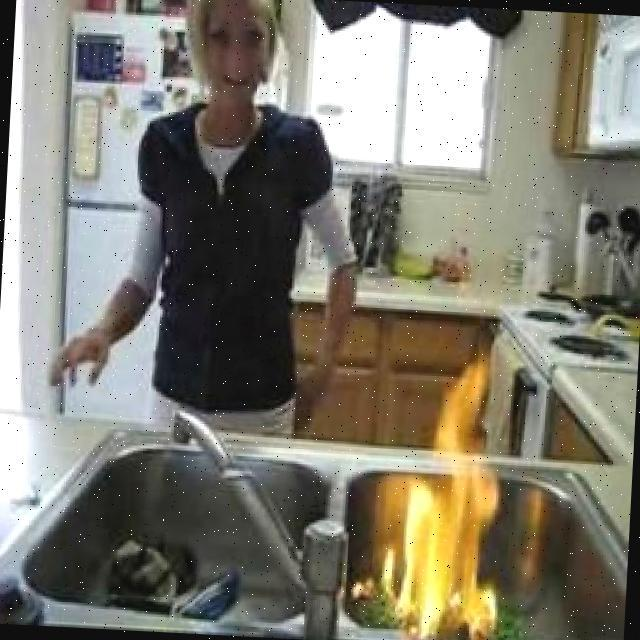Fire: (377, 345, 509, 640)
